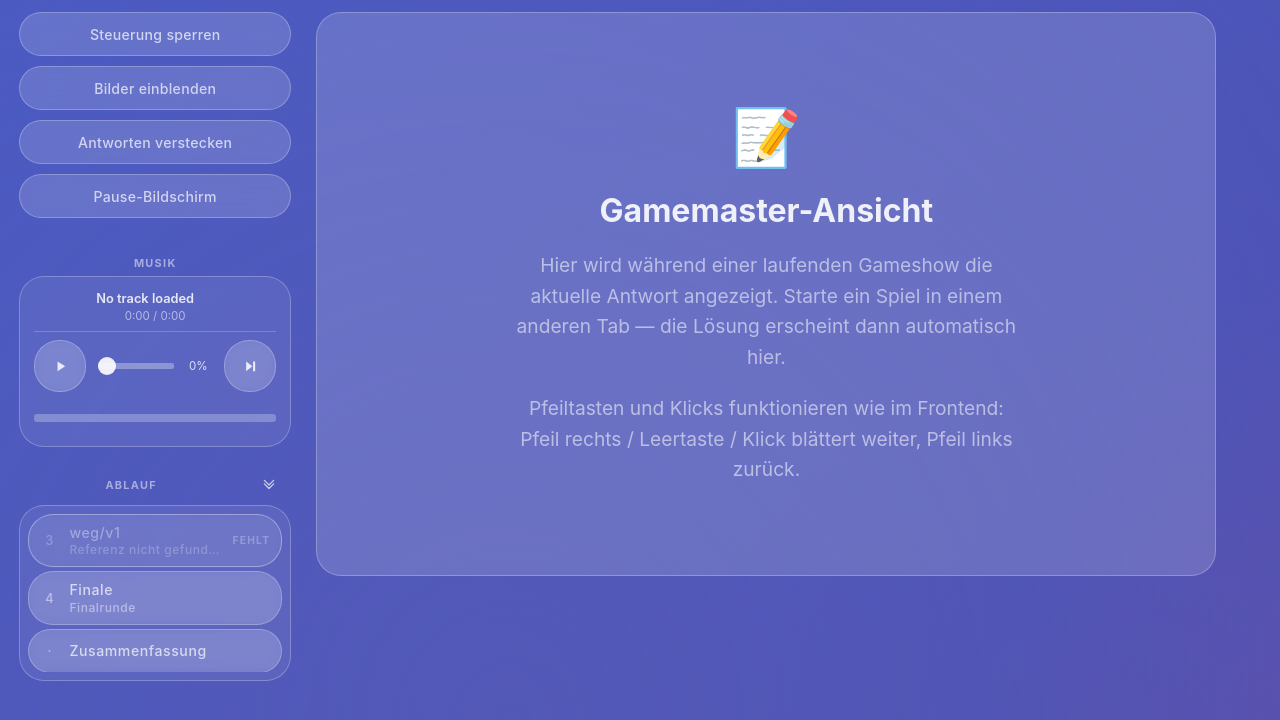
Gamemaster run-of-show — navigation suppression › does not advance the show when the dialog backdrop is clicked away
(page scrolled)
Step 1. Click the button "4 Finale Finalrunde" → (155, 598), box [28,571,282,625]
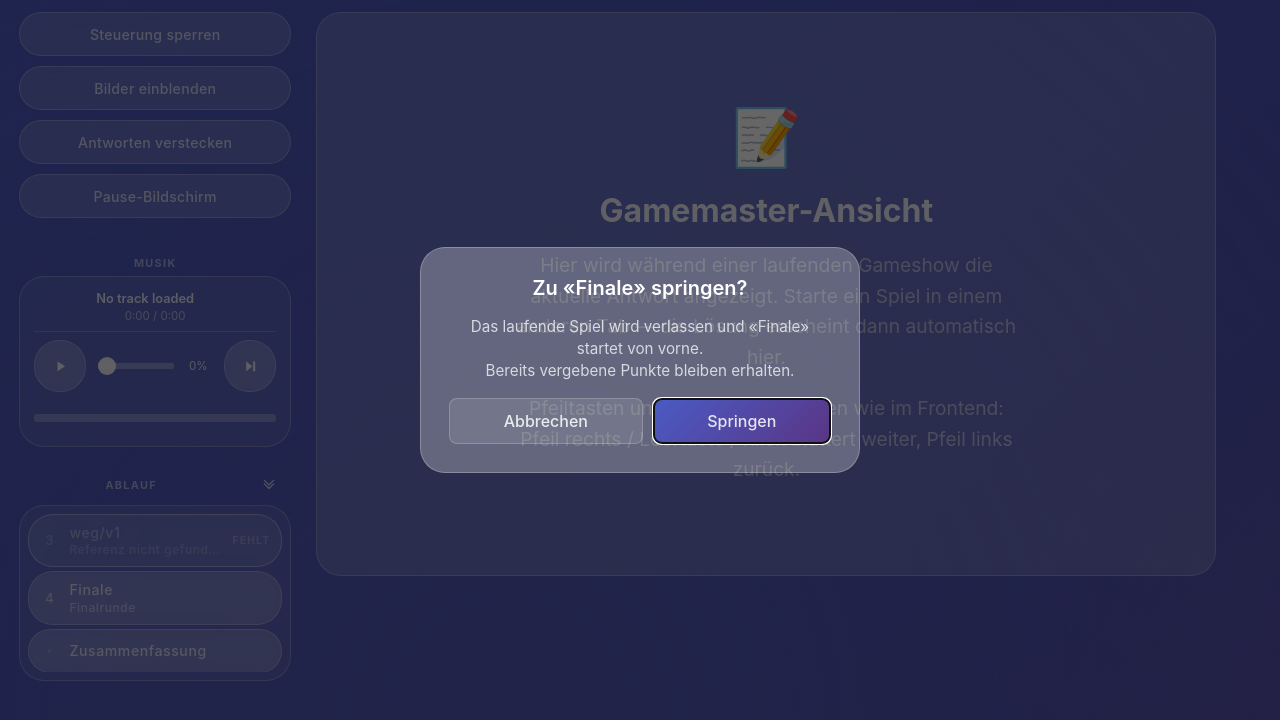
Step 2. Click the element with class "gm-confirm-overlay" → (77, 360), box [0,0,1279,719]
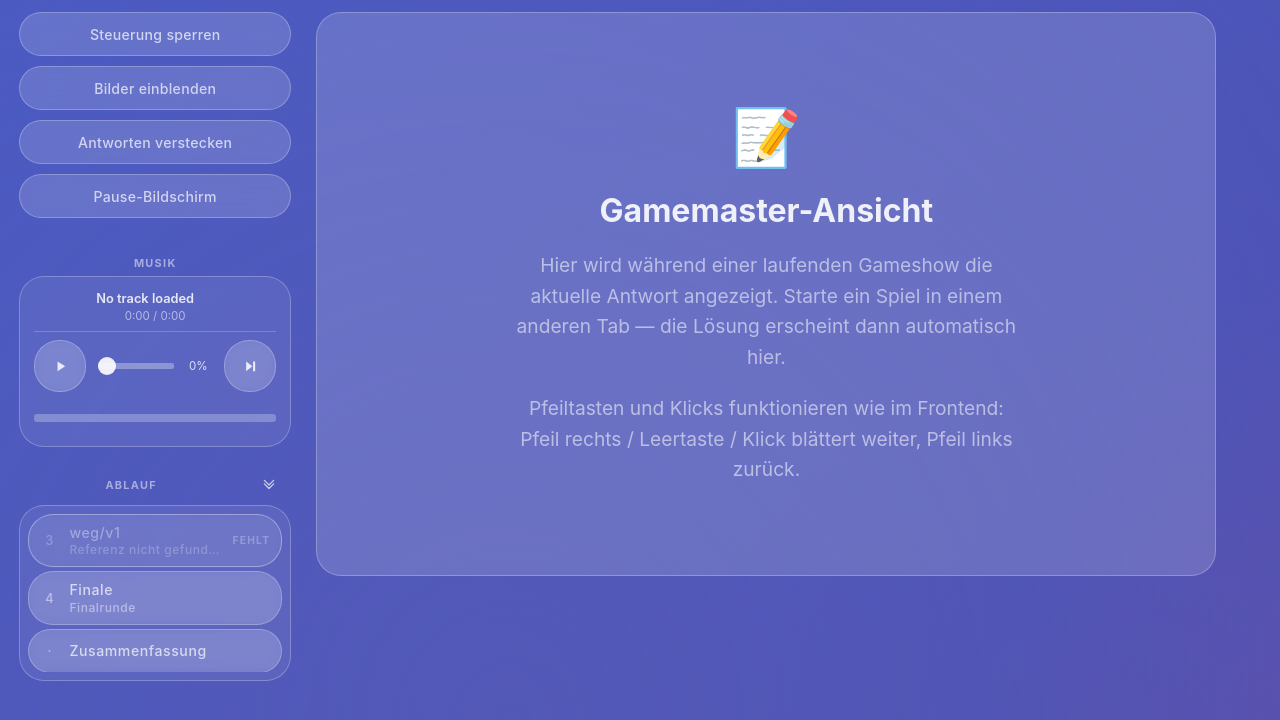
Expected: the dialog is gone
